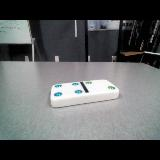domino: (50, 79, 119, 107)
